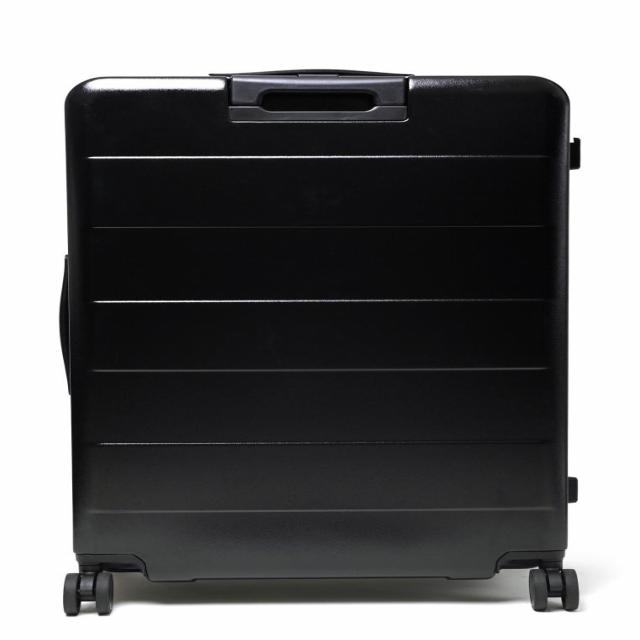luggage: (46, 65, 581, 591)
